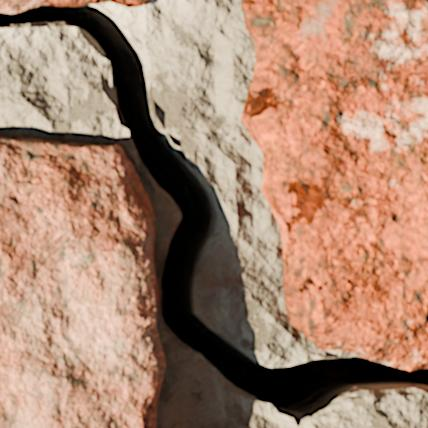brick: (242, 0, 427, 369), (0, 137, 165, 427)
broken_brick: (0, 0, 150, 12)
crack: (0, 2, 427, 425)
